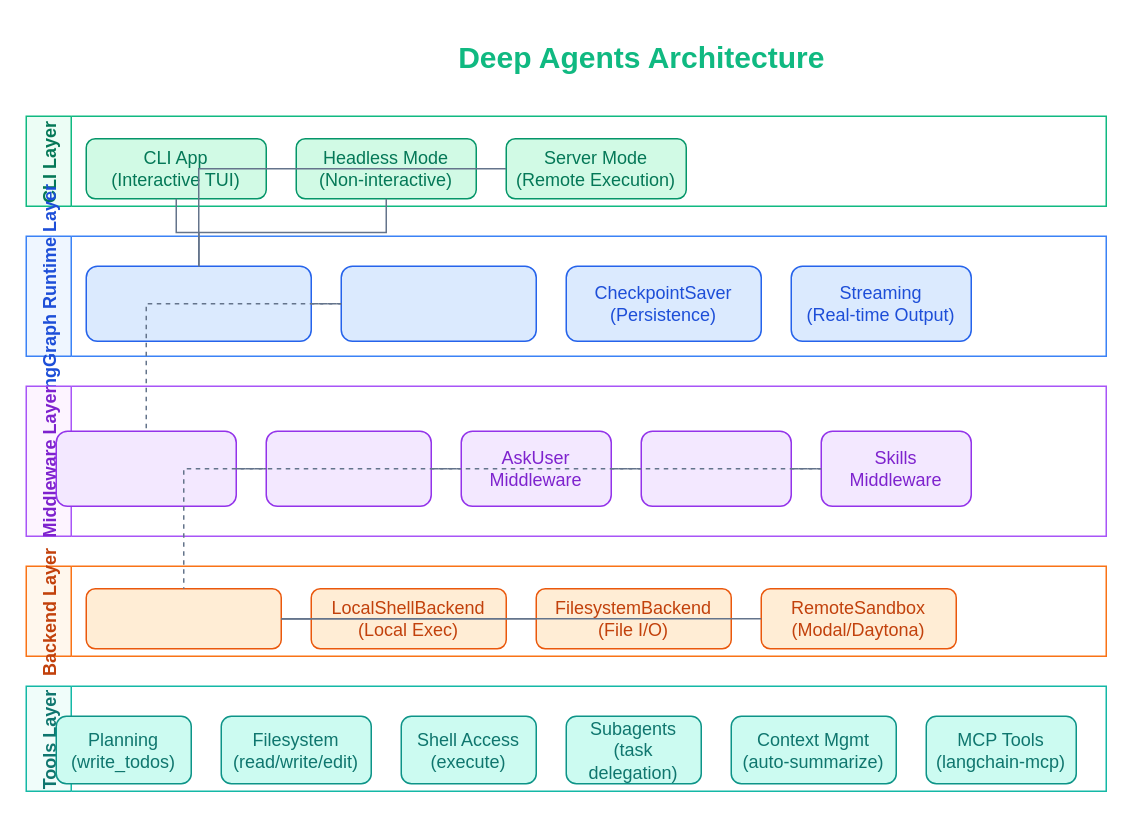
The diagram is 1133 pixels wide and 818 high, and some of its shapes have lost their labels. Each missing label, with the centre of its shape:
CompositeBackend (Router): the point at 183,618
ConfigurableModel Middleware: the point at 145,468
create_deep_agent() (Returns Pregel Graph): the point at 198,303
Memory Middleware: the point at 715,468
Pregel Graph (Compiled Graph): the point at 438,303
TokenState Middleware: the point at 348,468
